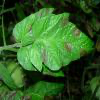Potato leaf late blight: (29, 12, 94, 72), (12, 8, 71, 72)
